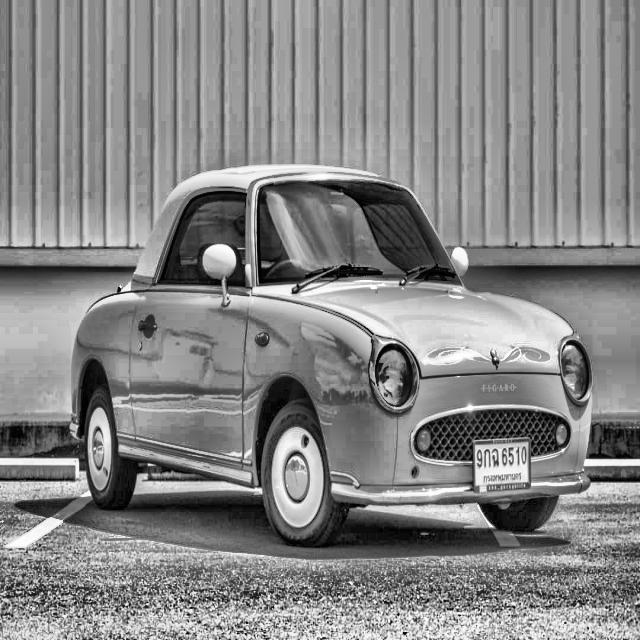license-plate: (471, 437, 533, 495)
